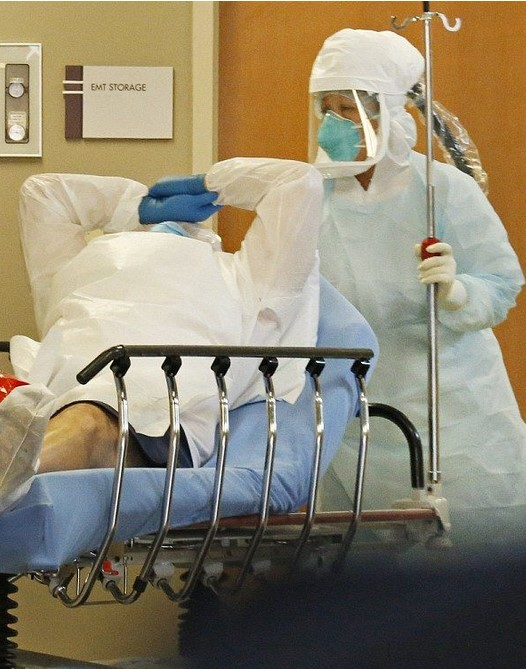face_with_mask: (310, 32, 423, 177)
